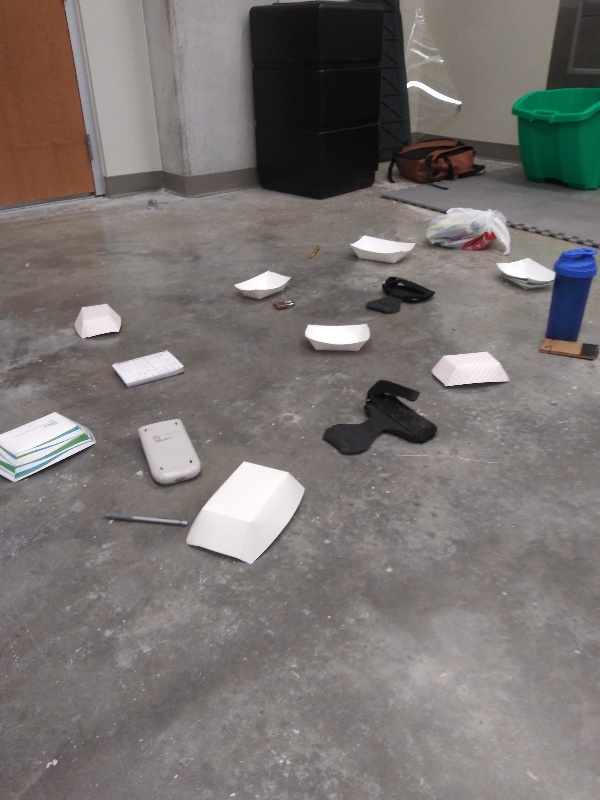plate: (181, 458, 312, 568), (1, 402, 104, 485), (427, 347, 514, 390), (346, 228, 424, 266), (301, 316, 378, 354), (486, 254, 558, 293), (233, 265, 295, 306), (72, 301, 126, 344)
